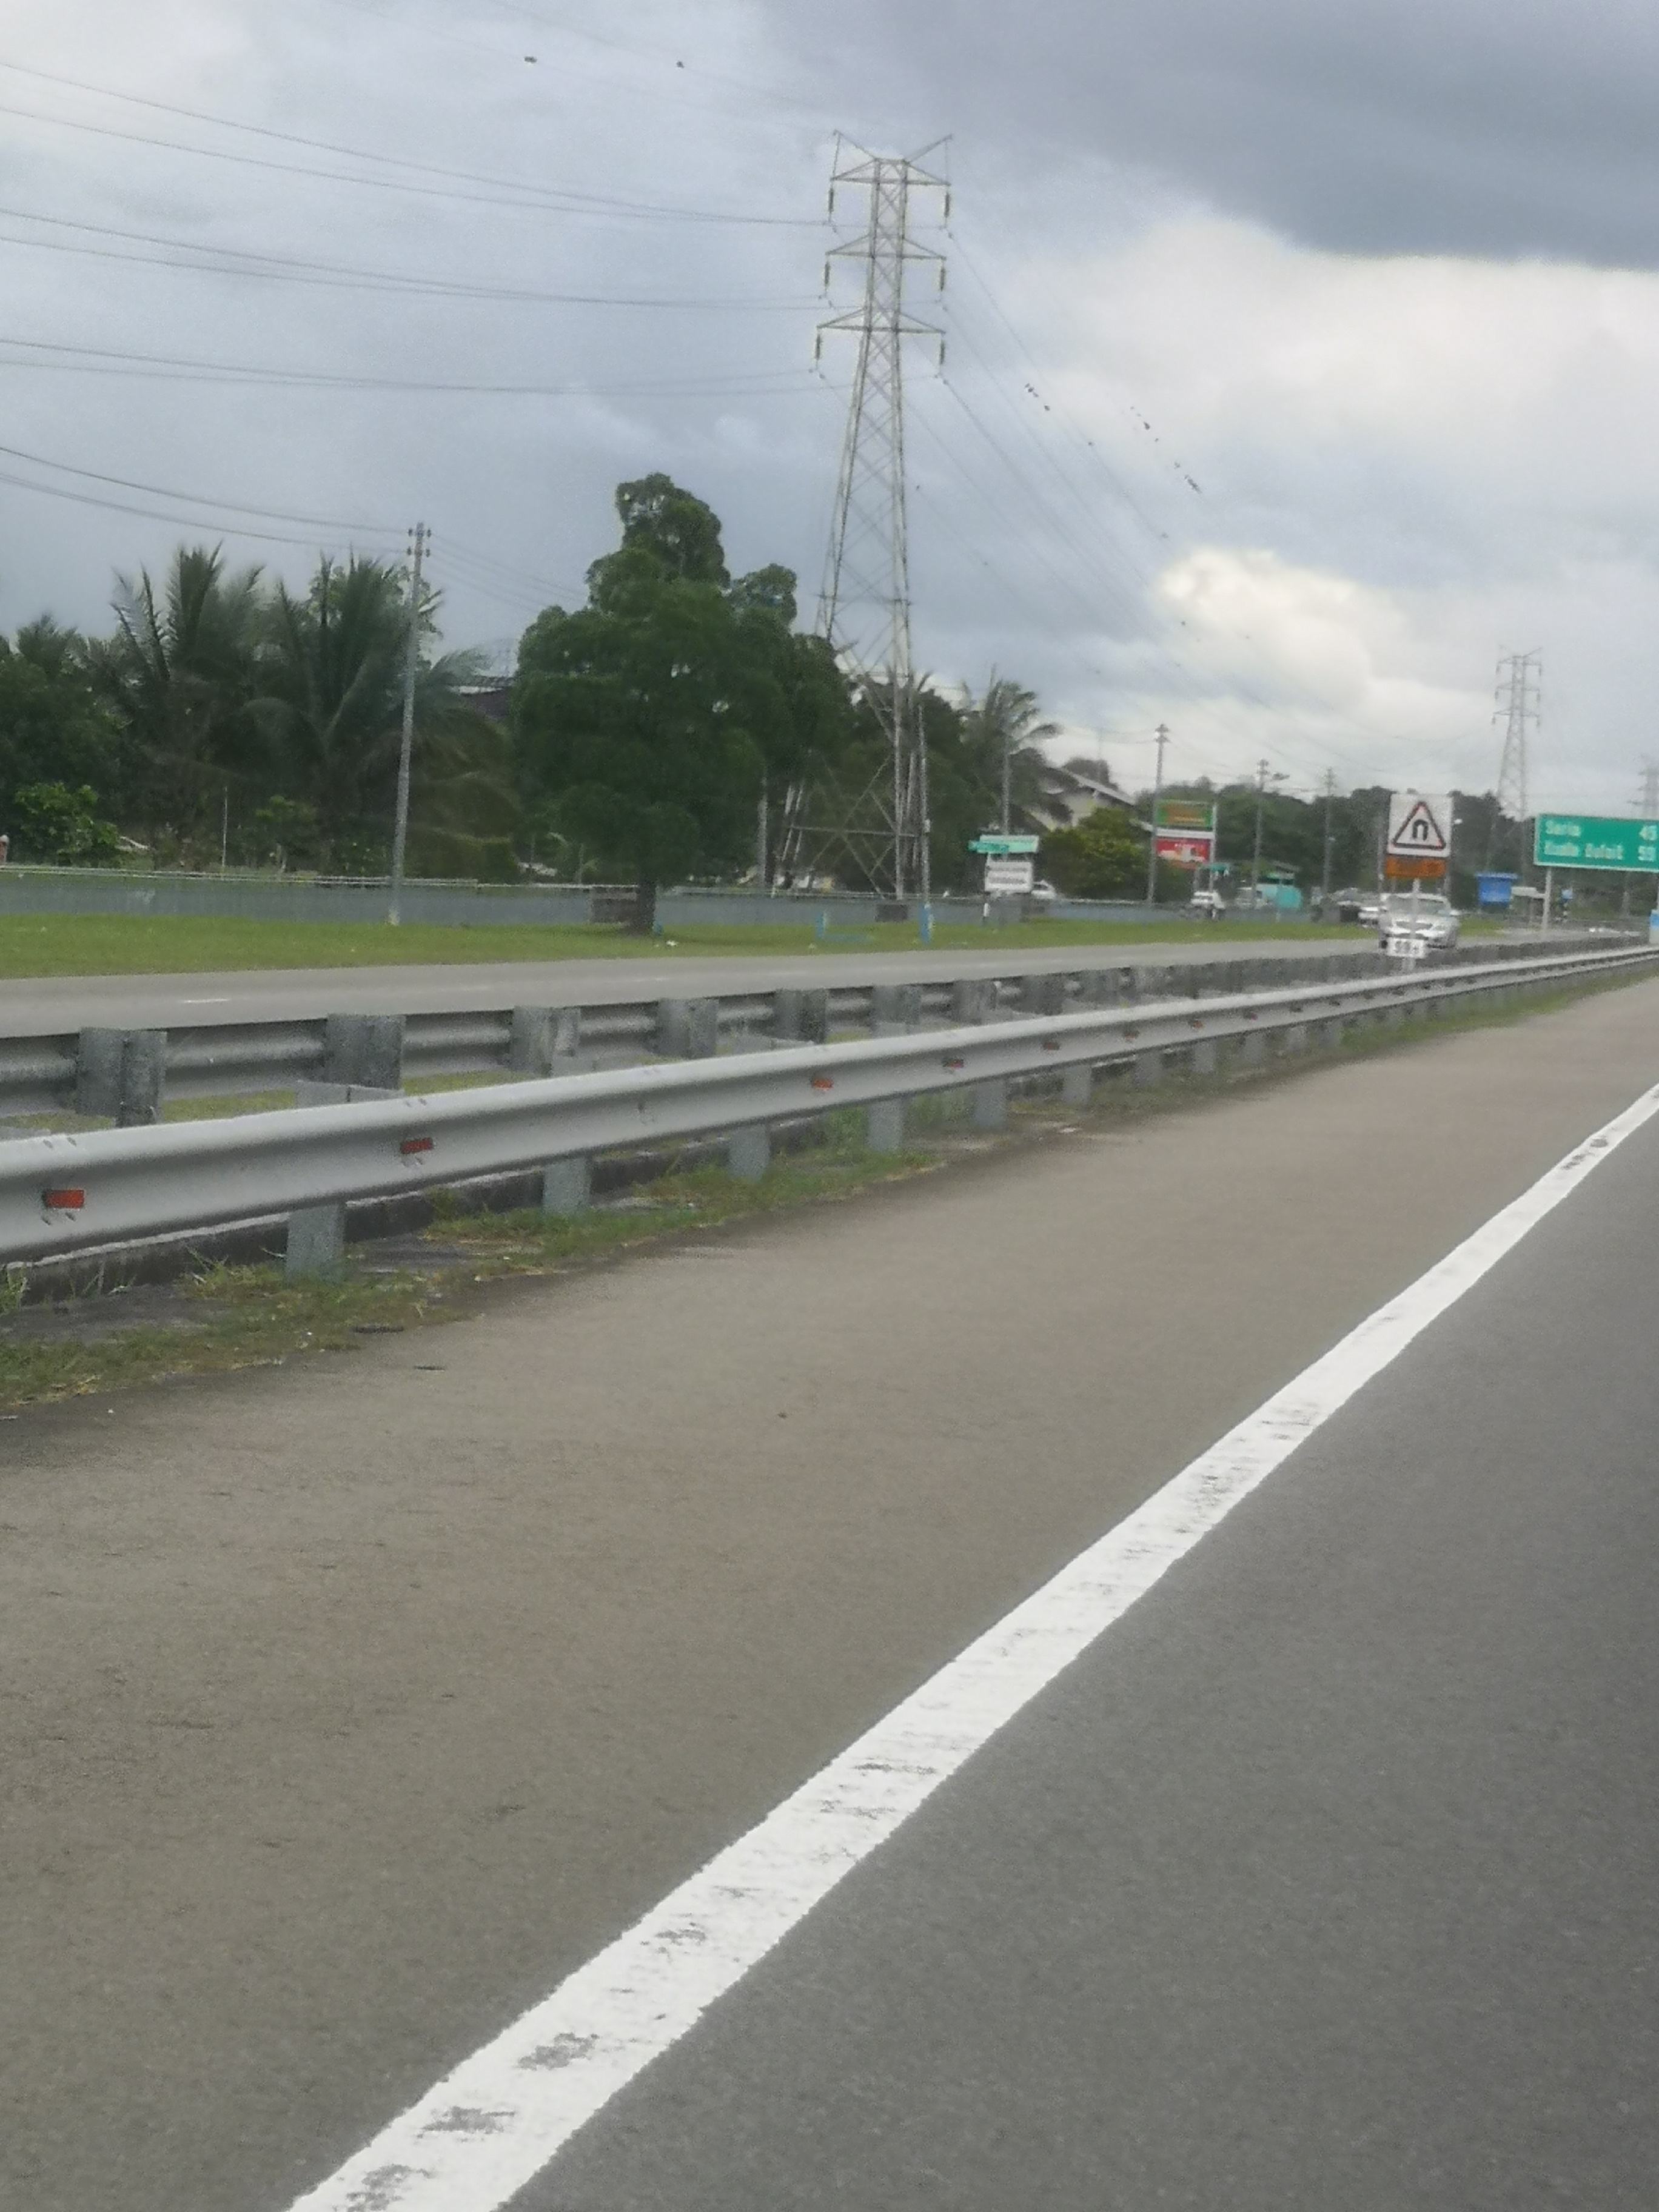U-turn: (1385, 787, 1460, 857)
